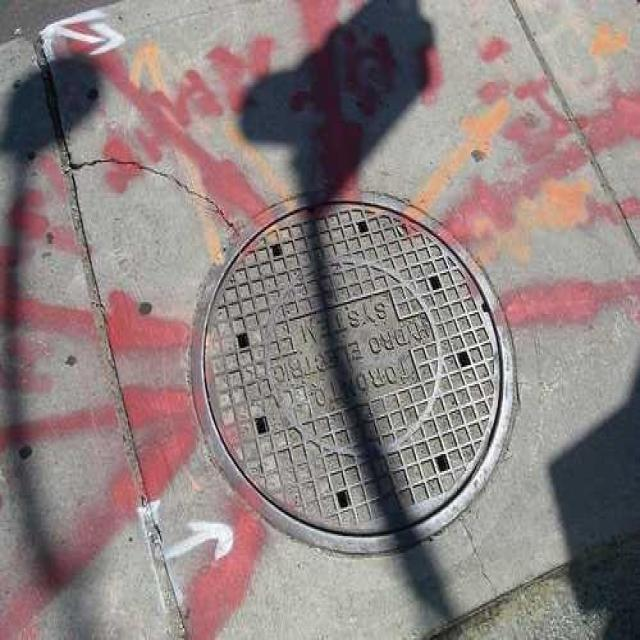manhole: (193, 193, 515, 552)
